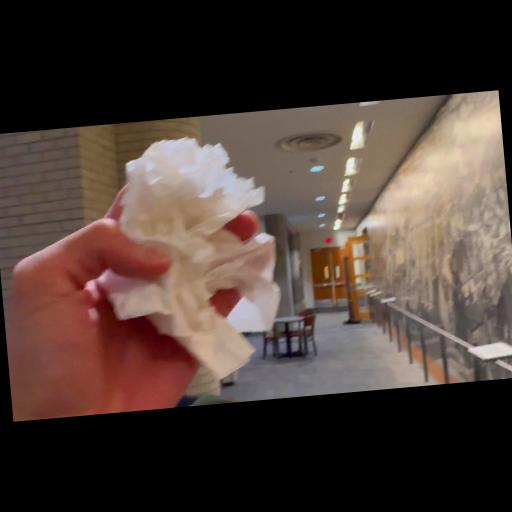napkin: (84, 128, 292, 394)
